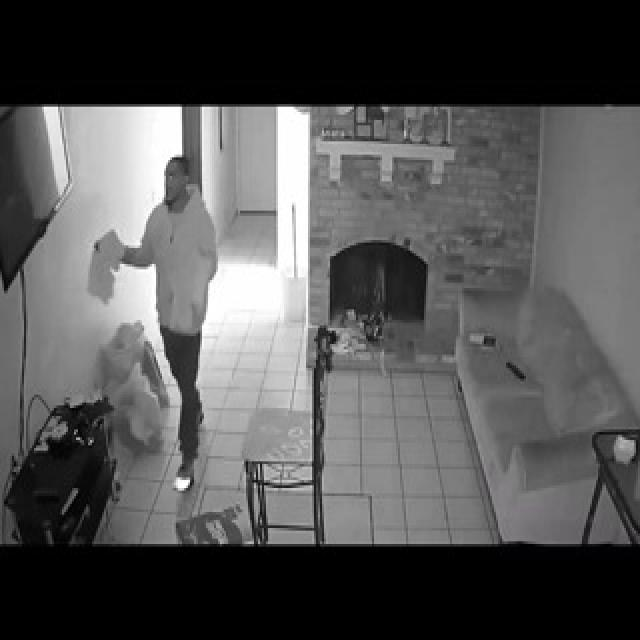thief: (149, 153, 217, 270)
